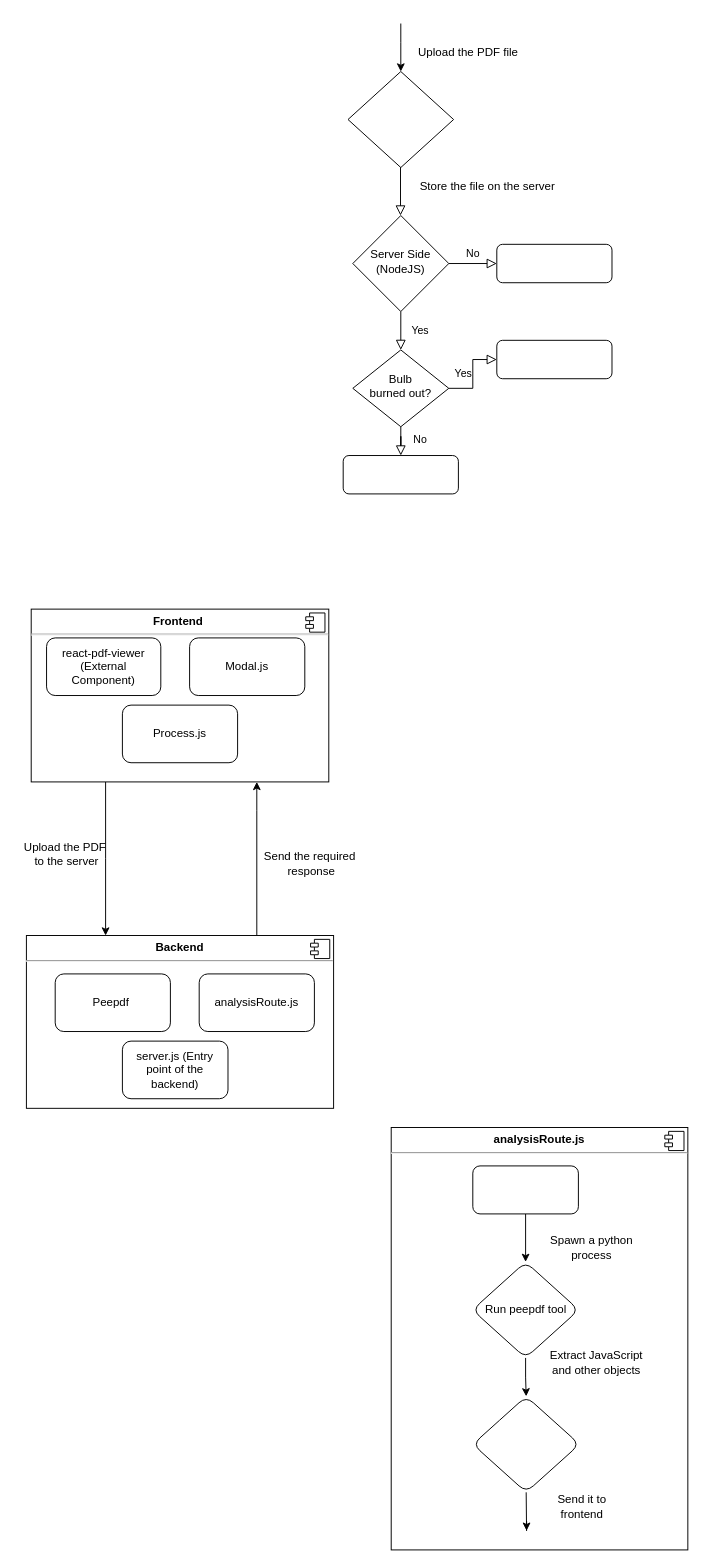
Image size: 705x1567. Some labels were removed from this diagram. The shapes that lost their labels are listed below. From the top down, each one's centre as x and y in pixels, then its label:
the point at 400,119: Client Side (ReactJS)
the point at 554,263: Plug in lamp
the point at 554,359: Replace Bulb
the point at 400,474: Repair Lamp
the point at 525,1189: Entry point of the Route
the point at 526,1443: Response Object
